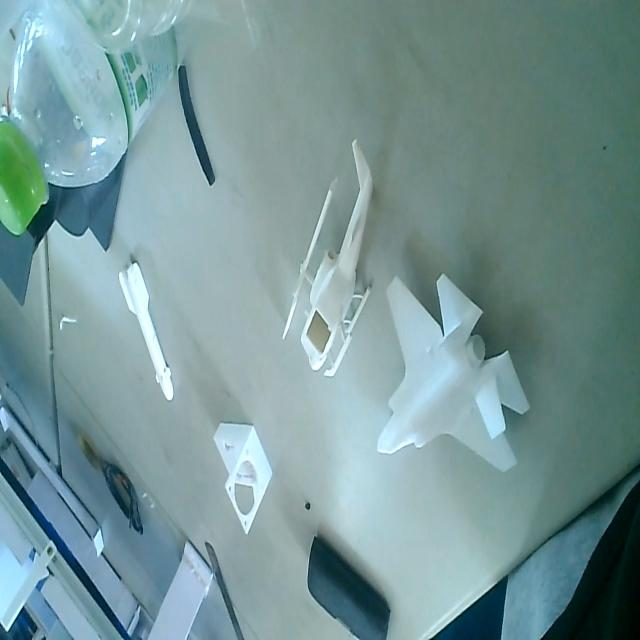Helicopter: (280, 135, 374, 394)
Jet: (378, 274, 531, 493)
Rocket: (116, 255, 178, 408)
